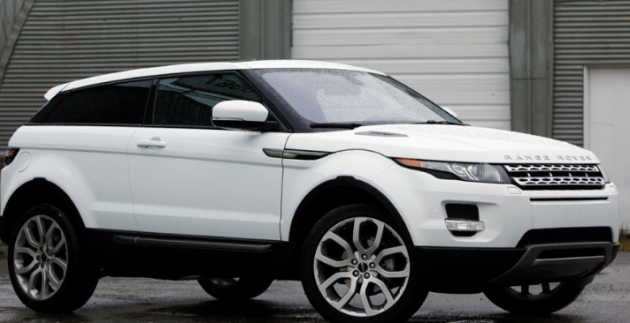car: (5, 63, 622, 311)
